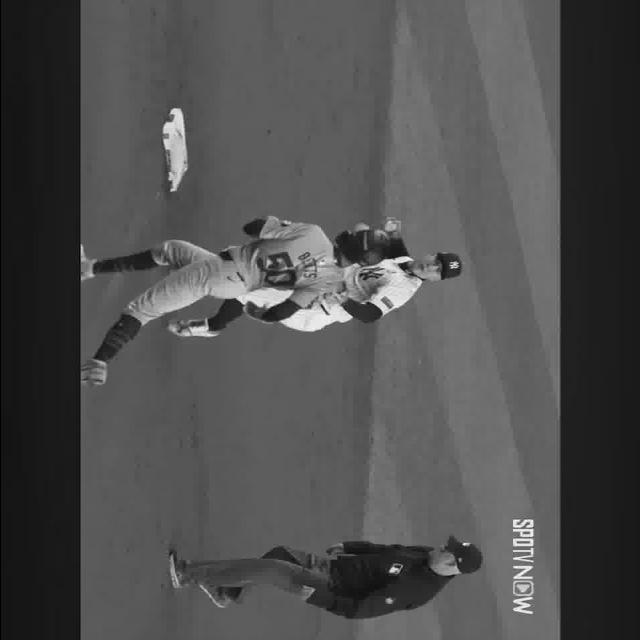base: (162, 108, 187, 191)
baseball: (382, 218, 395, 233)
shoe: (167, 319, 220, 338), (168, 551, 189, 589), (198, 586, 230, 608), (78, 244, 93, 281), (77, 370, 101, 384)
